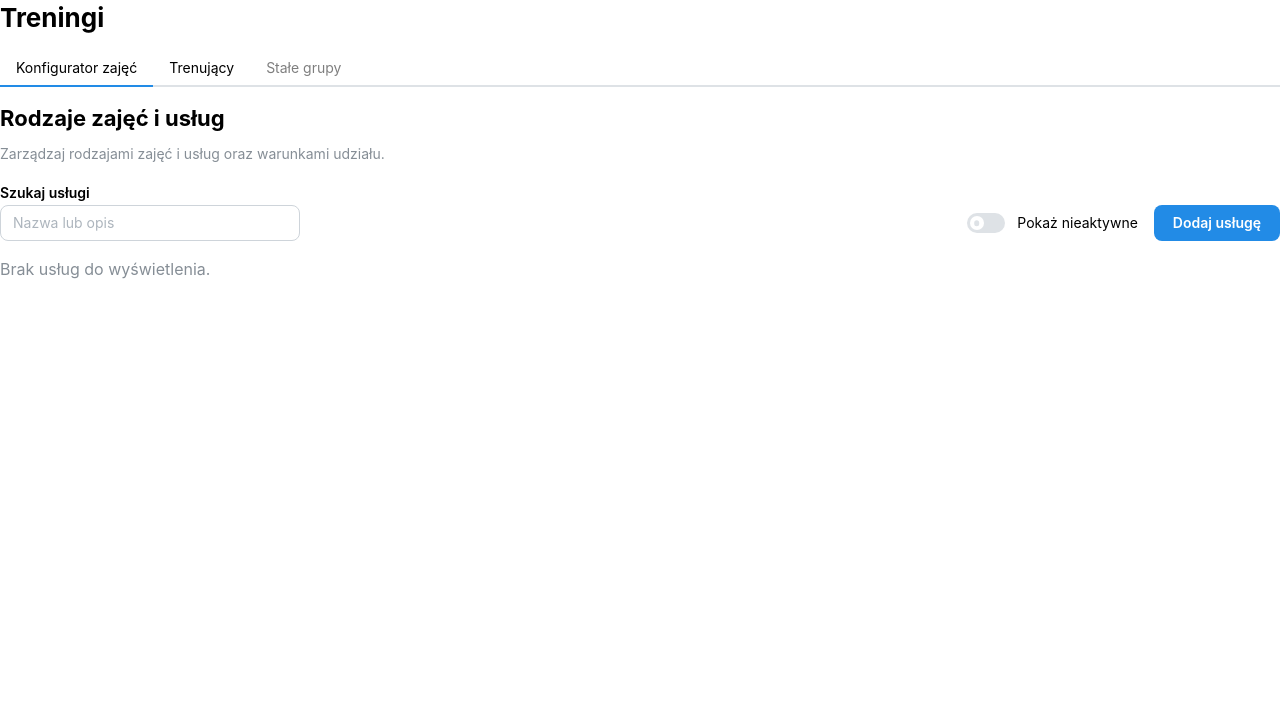
explains why a trainer could not be assigned
Click the tab "Trenujący" at (202, 69), box [153,51,250,87]
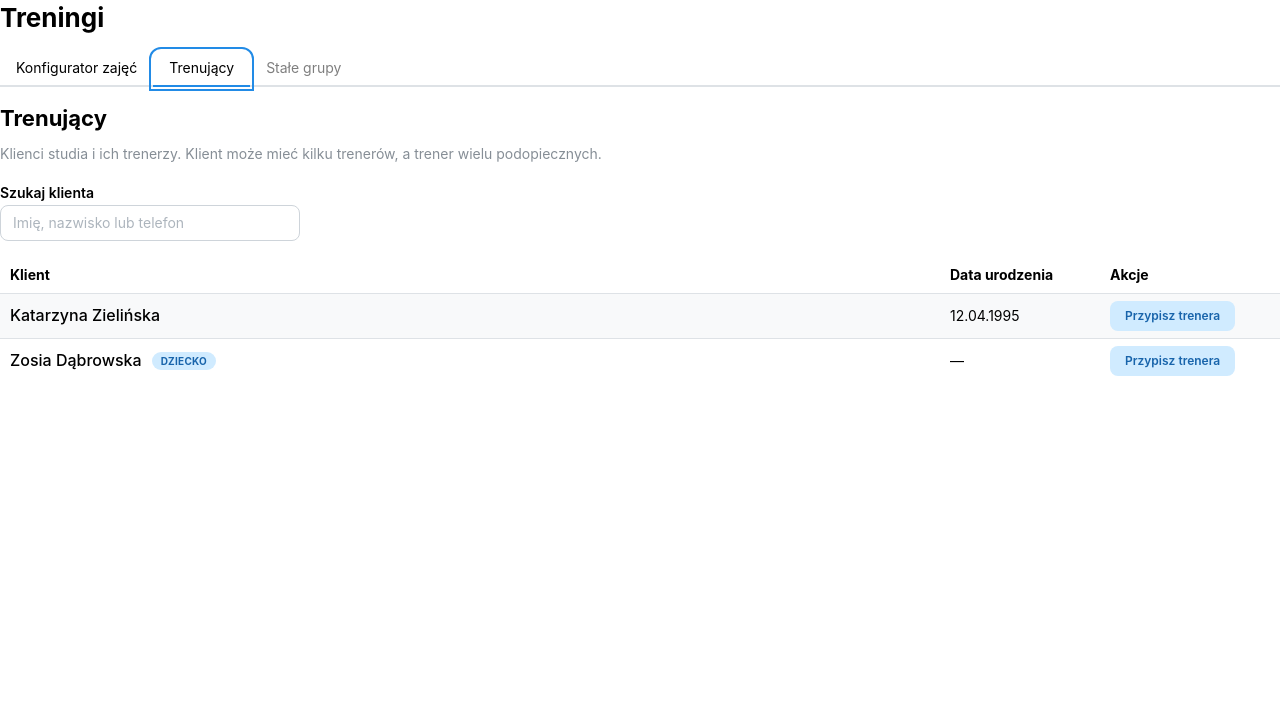
Click the button "Przypisz trenera" in the row of "Katarzyna Zielińska" at (1173, 316), box [1110,301,1235,331]
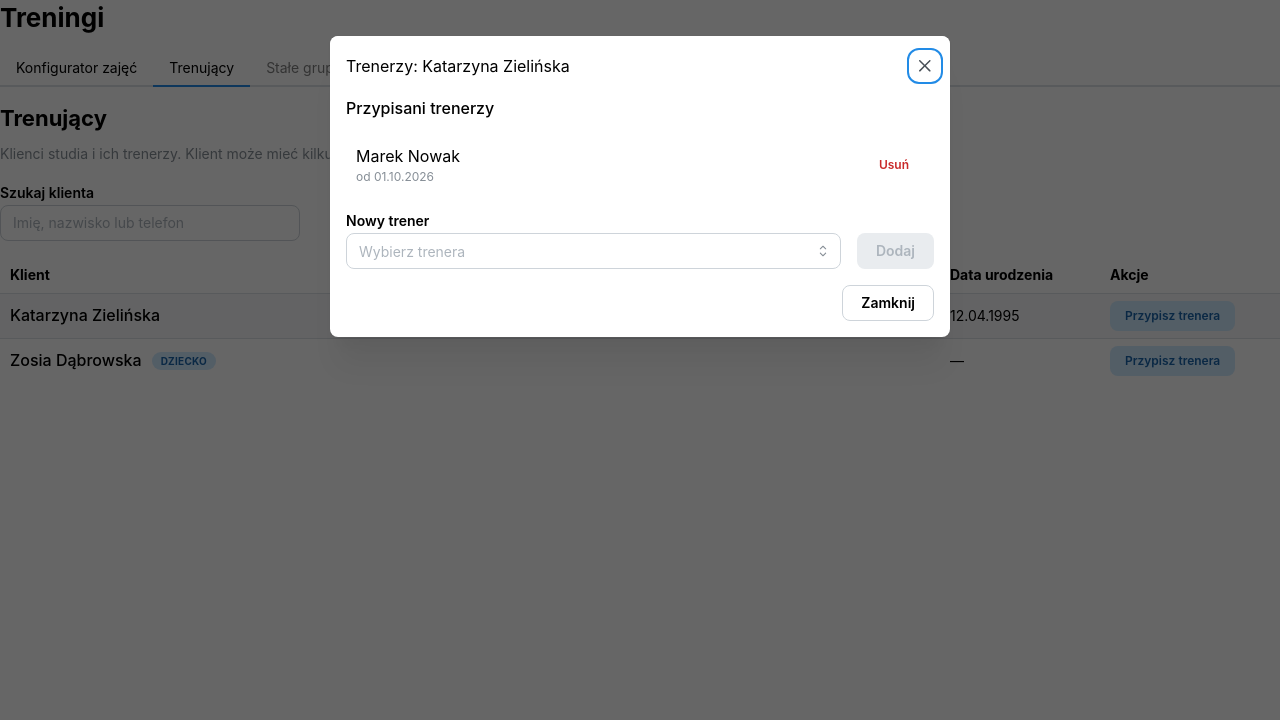
Click the dropdown labelled "Nowy trener" at (593, 251), box [346,233,841,269]
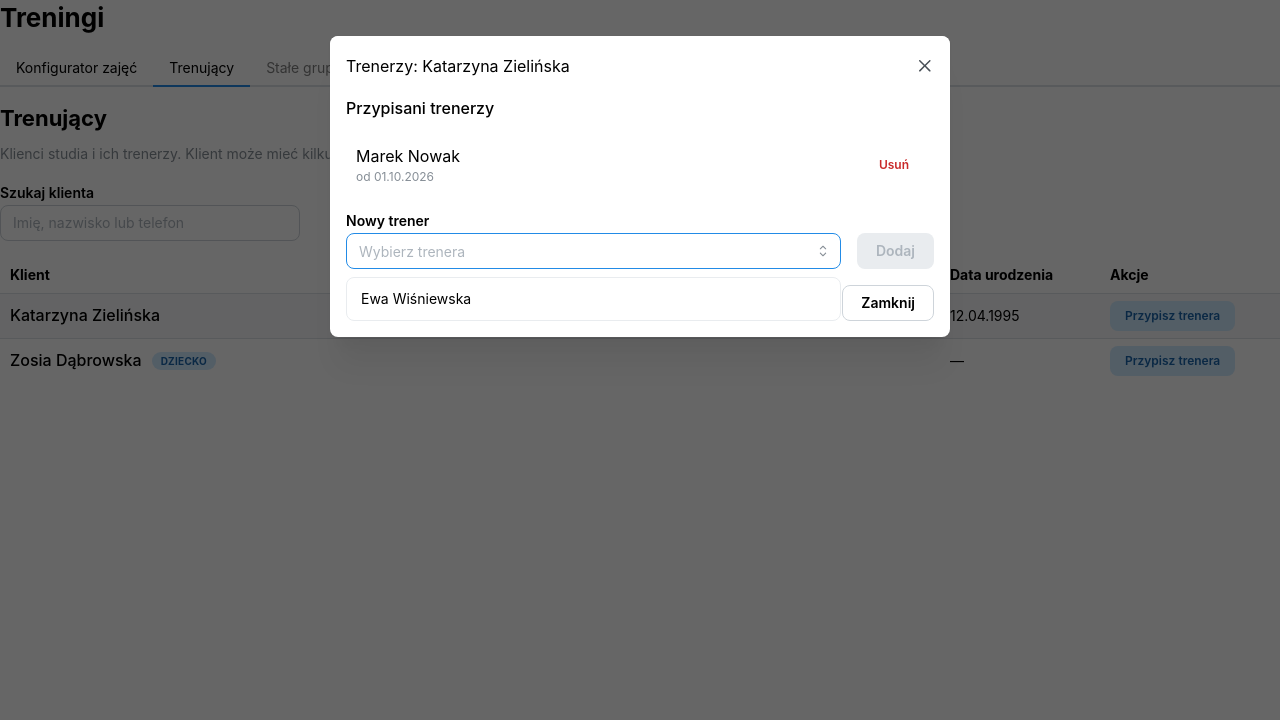
Click the option "Ewa Wiśniewska" at (416, 299), box [361,290,471,307]
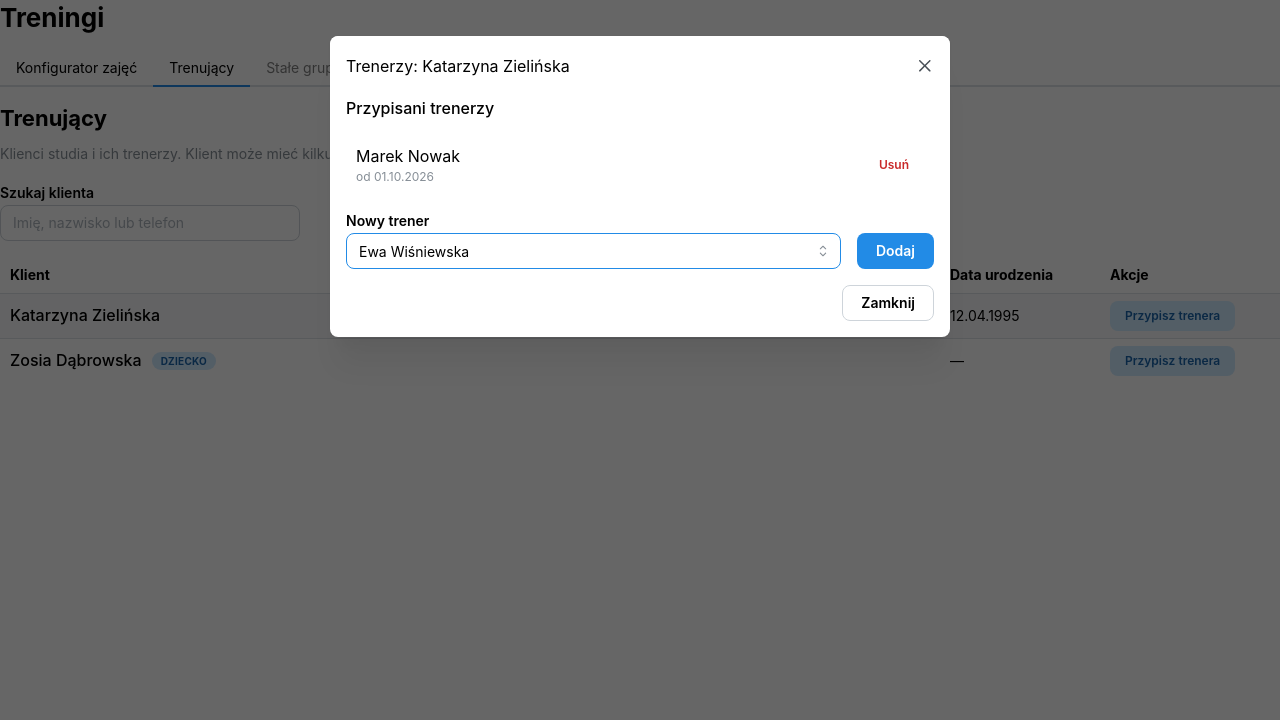
Click the button "Dodaj" at (895, 251), box [857,233,934,269]
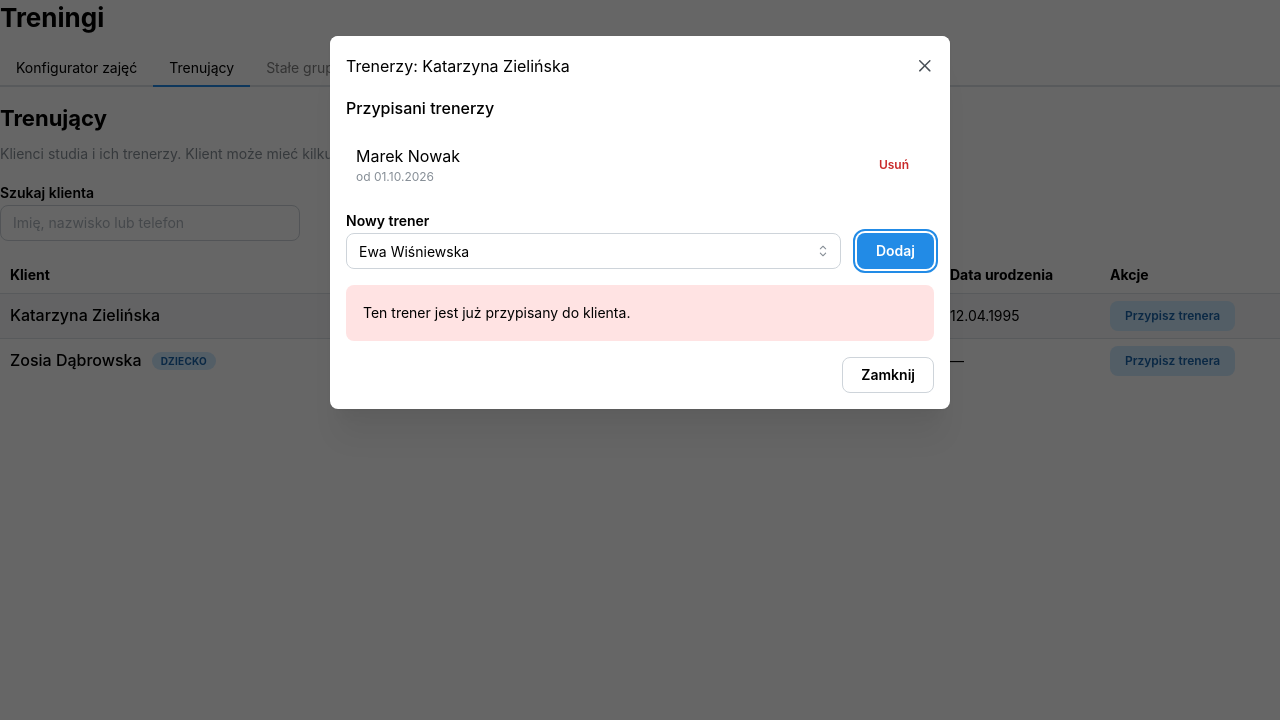
Now the text "Ten trener jest już przypisany do klienta." is shown, box [363,304,630,321]
